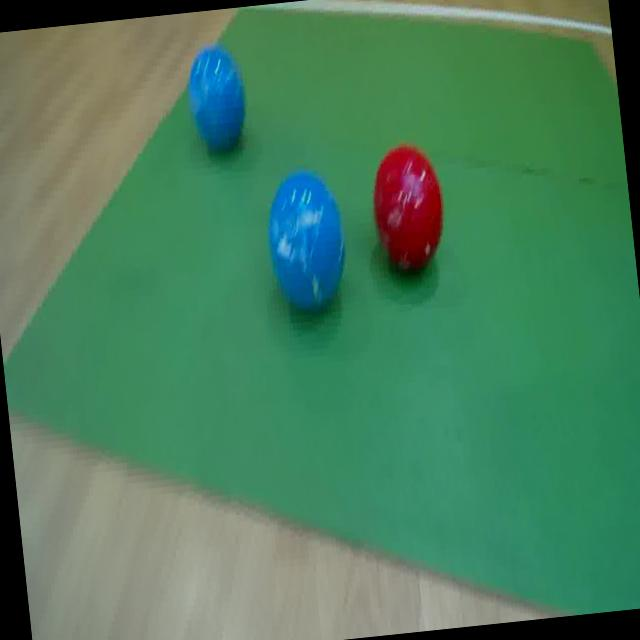blue_ball: (260, 166, 354, 315), (178, 42, 254, 164)
red_ball: (364, 136, 451, 276)
